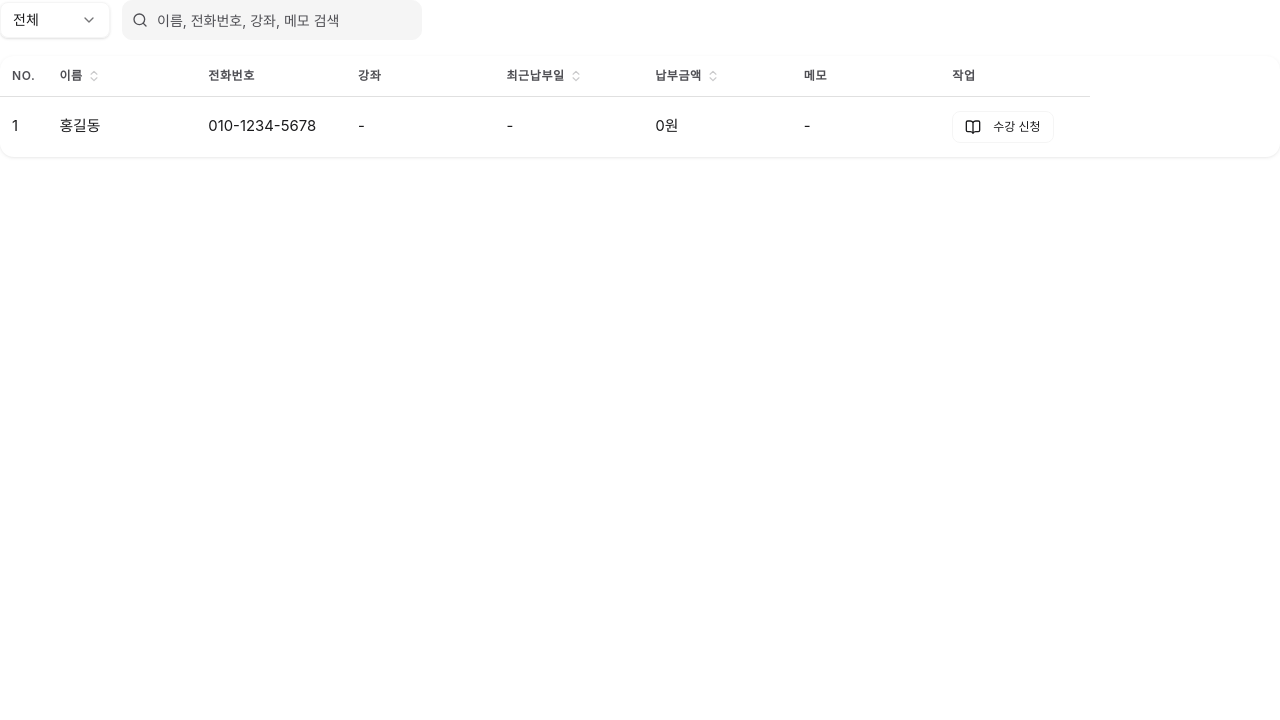
Scenario: StudentList › clicking student name opens StudentForm modal
The width and height of the screenshot is (1280, 720).
Click the button "홍길동" at (80, 126), box 59,115 -> 100,138
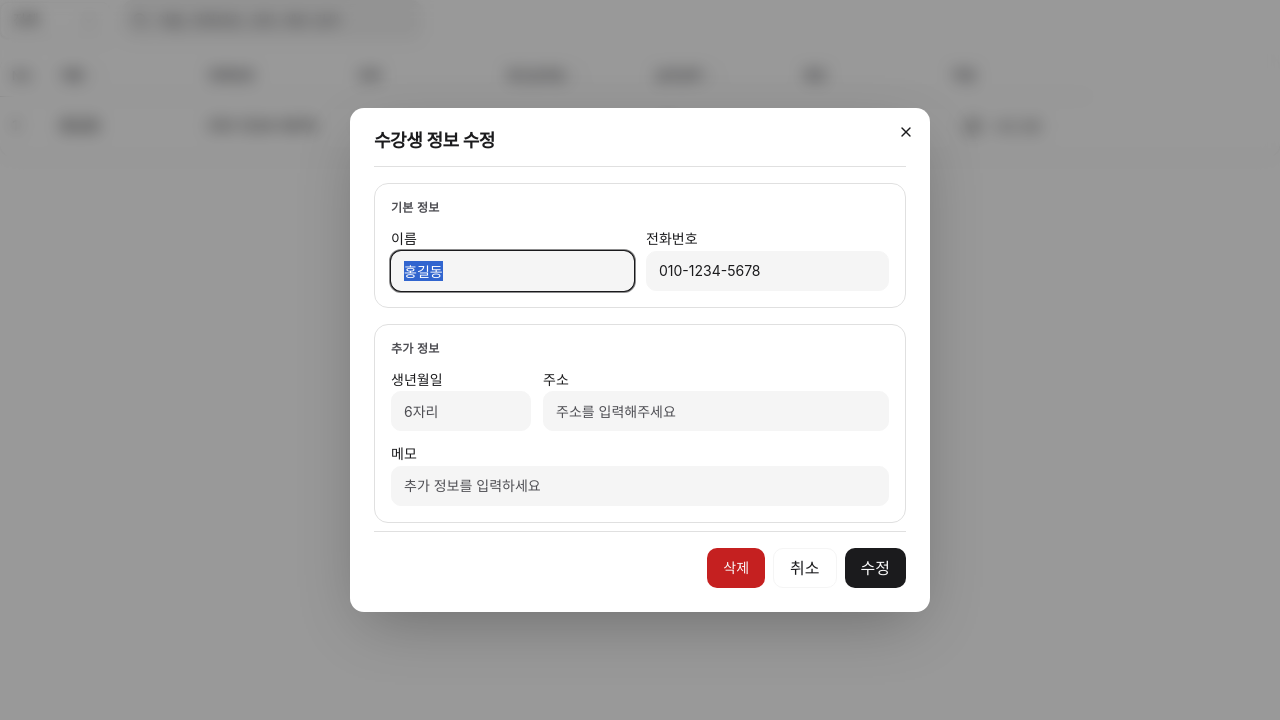
Now the heading "수강생 정보 수정" is shown, box 374,130 -> 495,151
